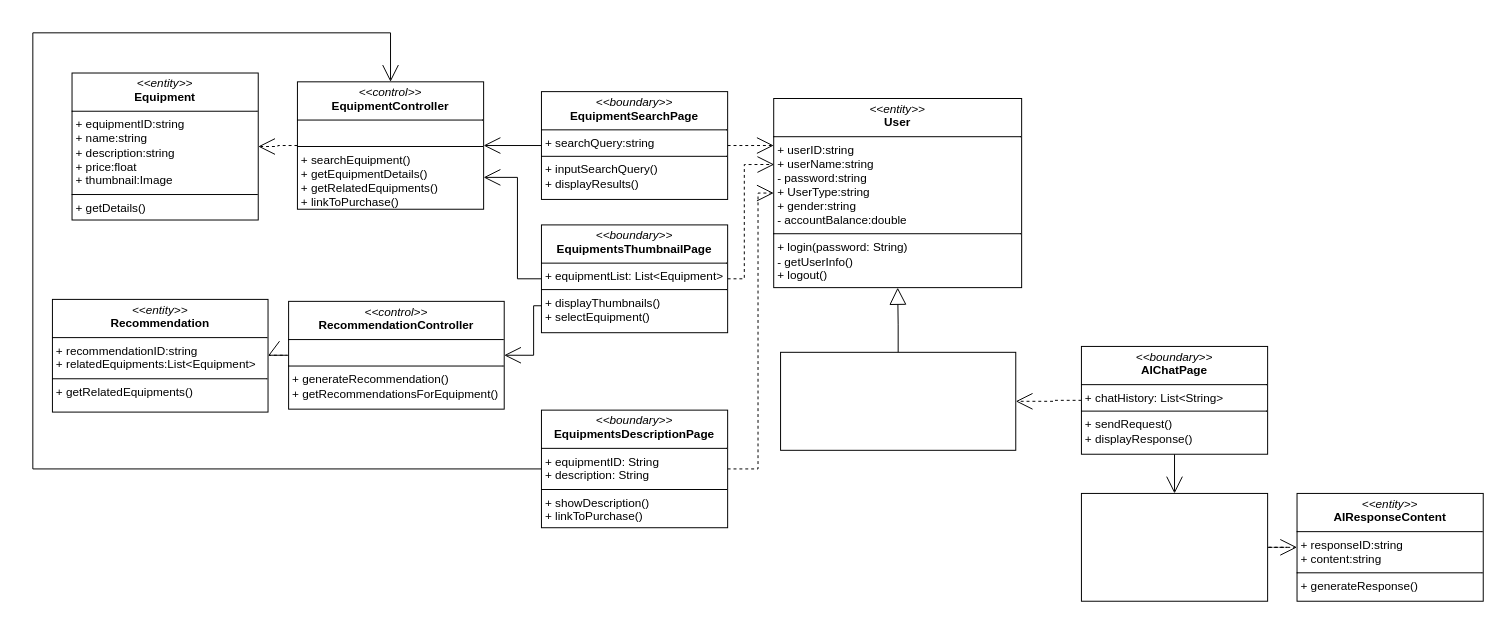
Some shapes in this 1500 by 618 pixel diagram are drawn without their labels. The shapes that lost their labels are listed below. From the top down, each one's centre as x and y in pixels, then its label:
At point 898,400: "<<entity>> VIP + userID:string + userName:string".
At point 1174,546: "<<control>> AIChatController + processUserMessage() + retrieveResponse()".
